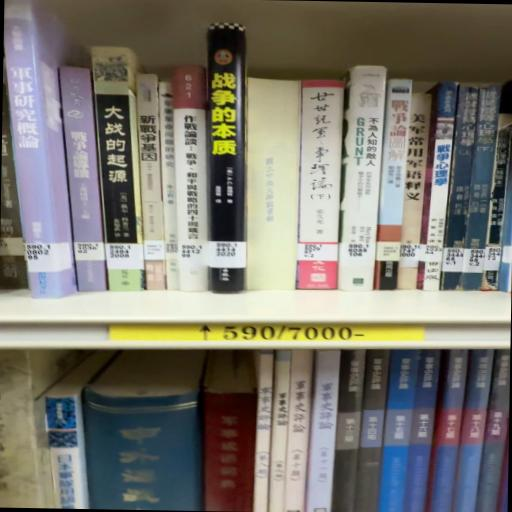backward: (243, 78, 300, 291)
book: (1, 12, 79, 303), (88, 48, 150, 293), (58, 67, 115, 294), (208, 21, 254, 290), (342, 72, 390, 296), (299, 76, 348, 288), (176, 62, 219, 290)
